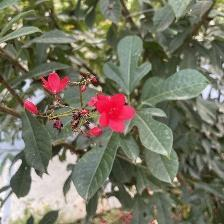jatropha: (97, 94, 137, 134), (42, 72, 72, 96)
